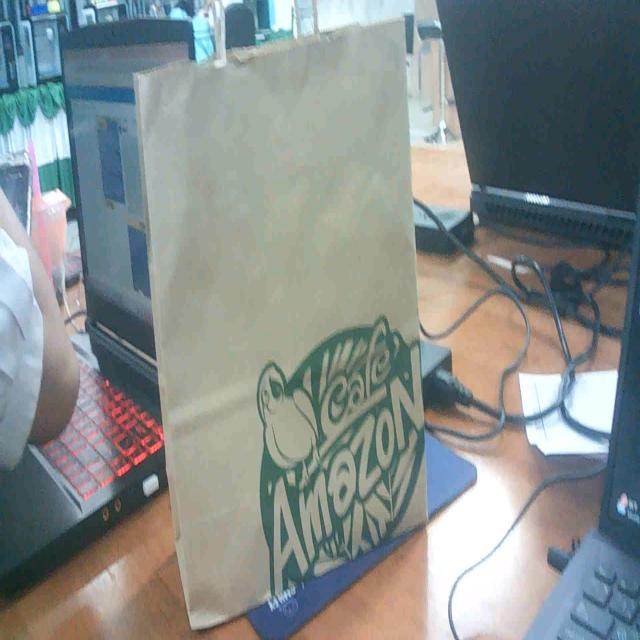bag: (115, 21, 449, 596)
